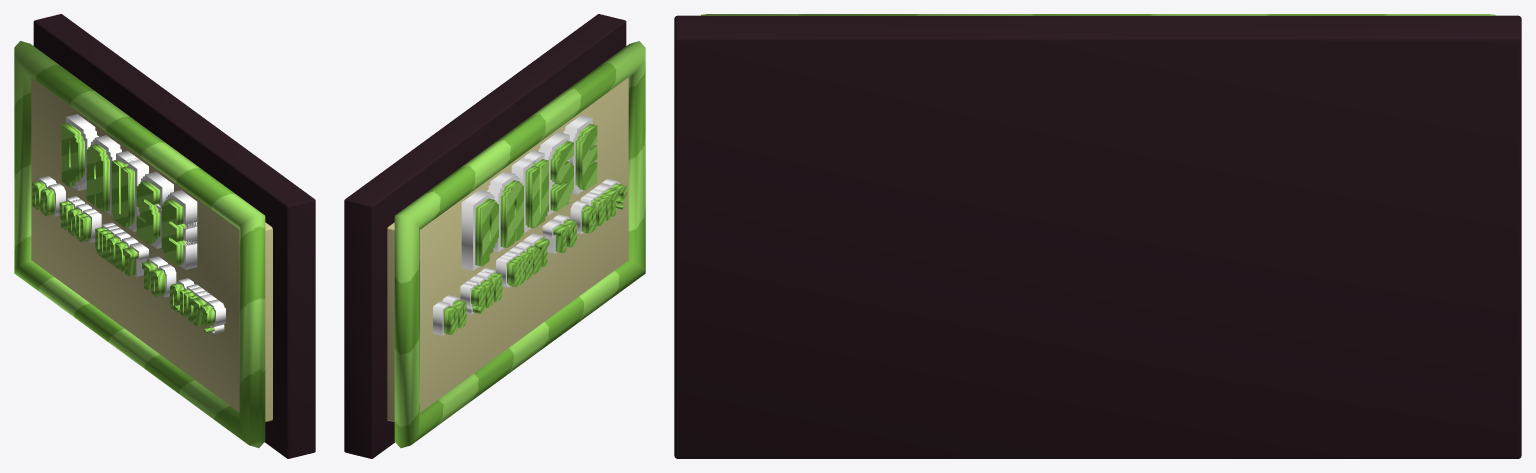
File: tablero.fbx
3 renders of one model, left to right at view 1: azimuth 30°, elevation 25°; view 2: azimuth 150°, elevation 25°; view 3: azimuth 270°, elevation 25°, orthographic. The views are drawn at different scales.
Parts seen in each view (by area): view 1: fondo_pared_negro, bordes, fondo_pared, pause, do you, fondo_pause, Text.005; view 2: fondo_pared_negro, fondo_pared, bordes, pause, do you, fondo_pause, Text.005; view 3: fondo_pared_negro, bordes.
Part boxes in pixels (<box>): fondo_pared_negro: <box>33,14,315,458</box>; bordes: <box>14,41,265,447</box>; fondo_pared: <box>31,77,272,422</box>; pause: <box>61,123,185,265</box>; do you: <box>32,181,214,332</box>; fondo_pause: <box>66,114,197,269</box>; Text.005: <box>39,176,225,333</box>; fondo_pared_negro: <box>344,14,626,458</box>; fondo_pared: <box>387,77,628,421</box>; bordes: <box>394,41,645,448</box>; pause: <box>475,123,597,266</box>; do you: <box>443,183,626,335</box>; fondo_pause: <box>461,115,592,270</box>; Text.005: <box>433,178,619,335</box>; fondo_pared_negro: <box>674,15,1521,458</box>; bordes: <box>701,14,1495,15</box>.
Bounding box in the file's own units: 85.36 × 297 × 541.
